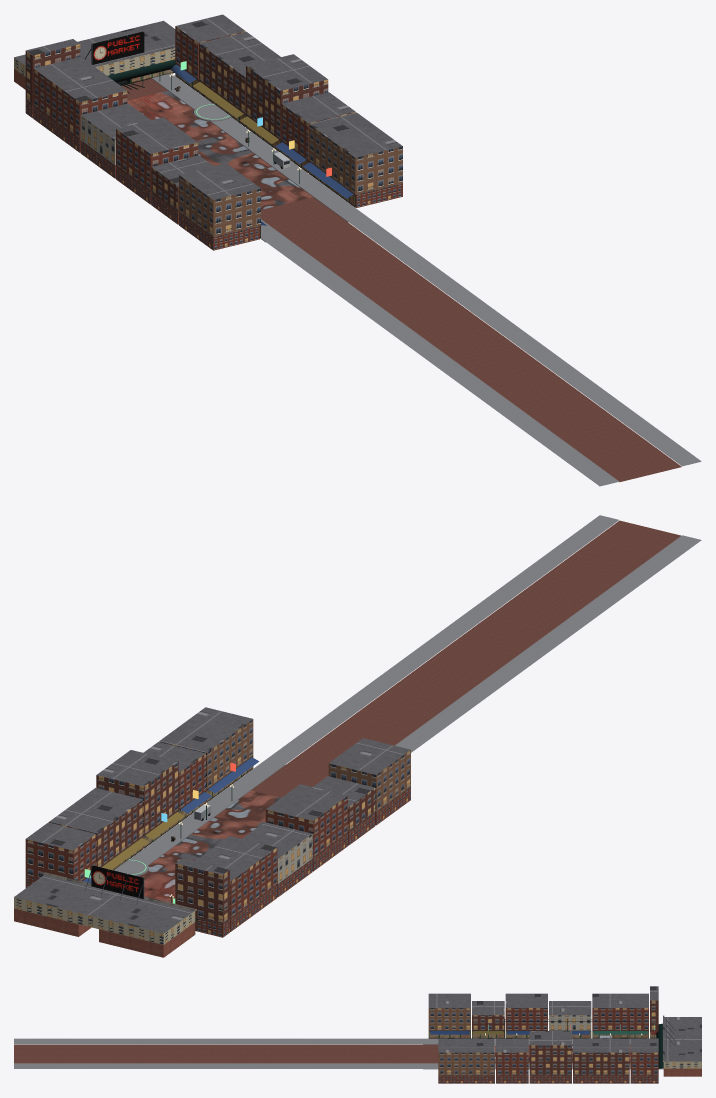
File: lugar-seattle.glb
3 views of the same model, one above another, from view 1: azimuth 30°, elevation 25°; view 2: azimuth 150°, elevation 25°; view 3: azimuth 270°, elevation 25° (orthographic). The views are drawn at different scales.
Visible parts, largest first — view 1: luzE, luzG-cerca, luzS-pista, vert-cerca, planoE; view 2: luzE, luzG-cerca, luzS-pista, planoE, vert-cerca; view 3: luzE, luzG-cerca, luzS-pista, vert-cerca, planoE.
Boxes of the visible parts, x1=… form: luzE: x1=25, y1=14, x2=402, y2=250; luzG-cerca: x1=121, y1=78, x2=701, y2=486; luzS-pista: x1=14, y1=20, x2=367, y2=242; vert-cerca: x1=84, y1=31, x2=353, y2=225; planoE: x1=92, y1=31, x2=355, y2=237; luzE: x1=25, y1=707, x2=410, y2=937; luzG-cerca: x1=251, y1=515, x2=701, y2=797; luzS-pista: x1=14, y1=760, x2=285, y2=957; planoE: x1=82, y1=756, x2=253, y2=934; vert-cerca: x1=83, y1=757, x2=258, y2=920; luzE: x1=428, y1=986, x2=658, y2=1083; luzG-cerca: x1=14, y1=1038, x2=438, y2=1068; luzS-pista: x1=423, y1=1015, x2=701, y2=1076; vert-cerca: x1=430, y1=1018, x2=675, y2=1068; planoE: x1=428, y1=1024, x2=658, y2=1038.
Size of the model in its own units: 58 by 17.67 by 286.
21 materials, 12 textured.
